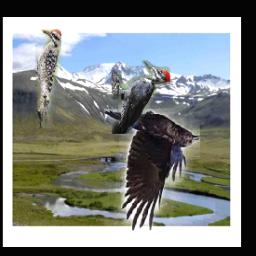Crow: (105, 109, 201, 231)
Woodpecker: (113, 60, 171, 134), (35, 30, 61, 129)
